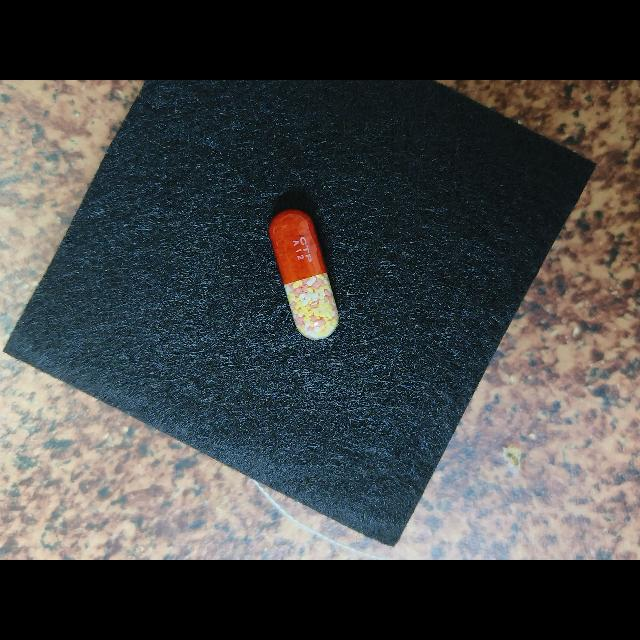Intact Capsule: (269, 209, 339, 339)
